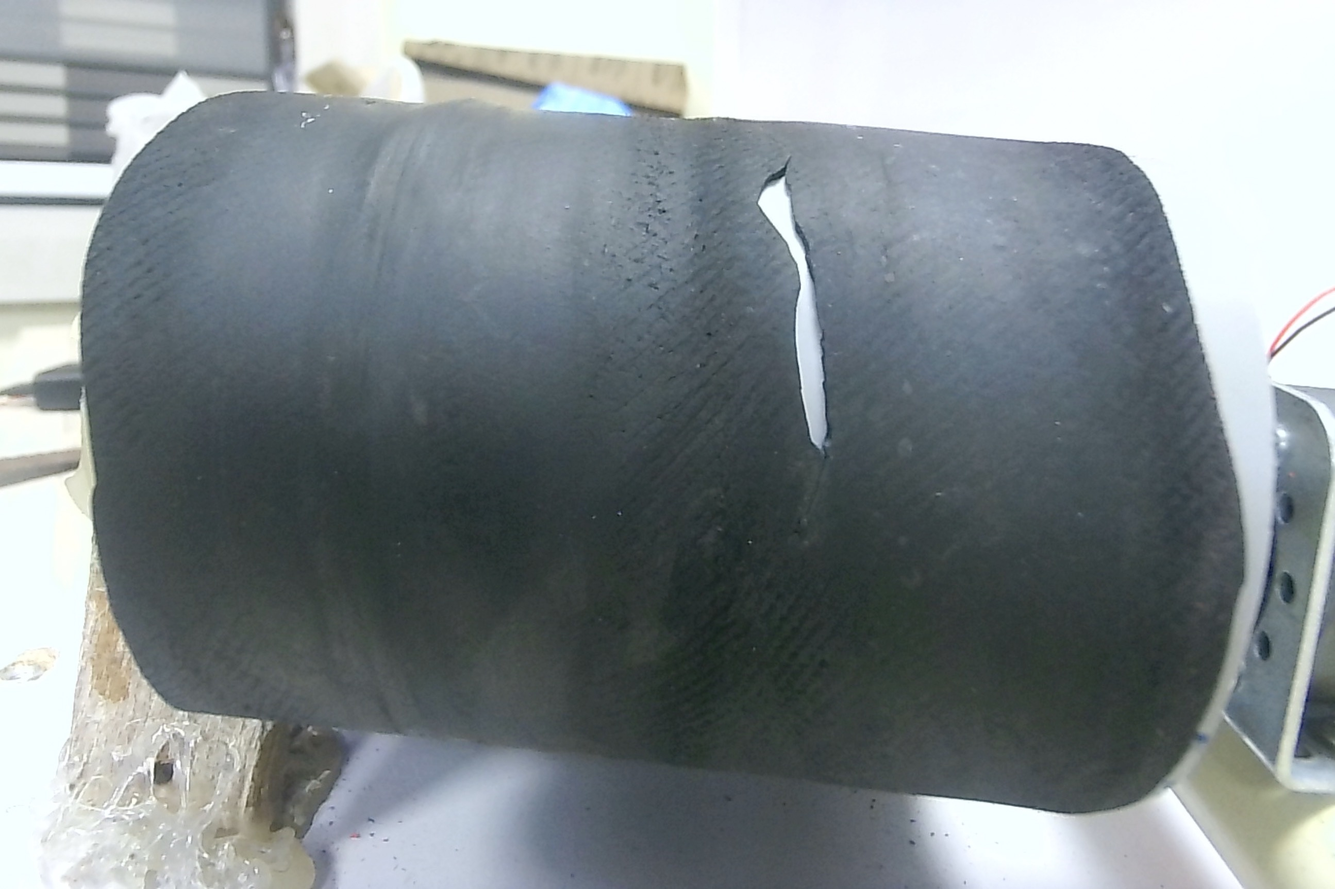tear: (741, 143, 851, 453)
